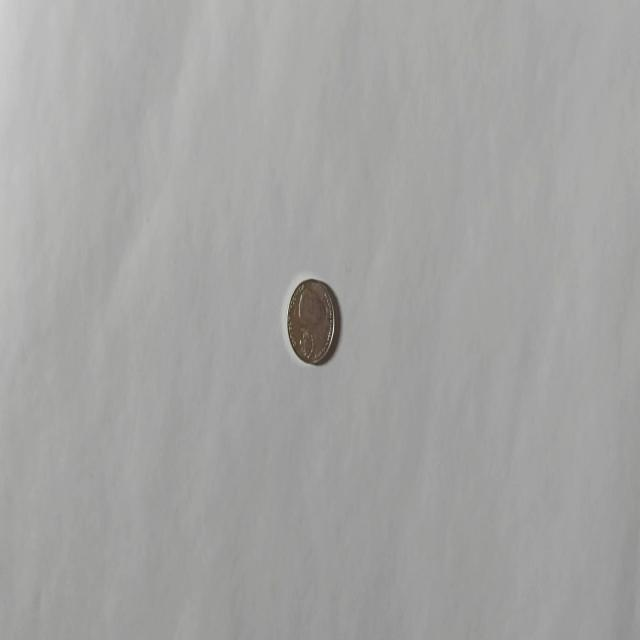seratus rupiah: (286, 276, 336, 366)
